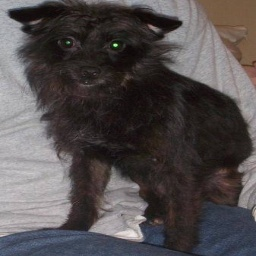dog: (7, 0, 251, 247)
